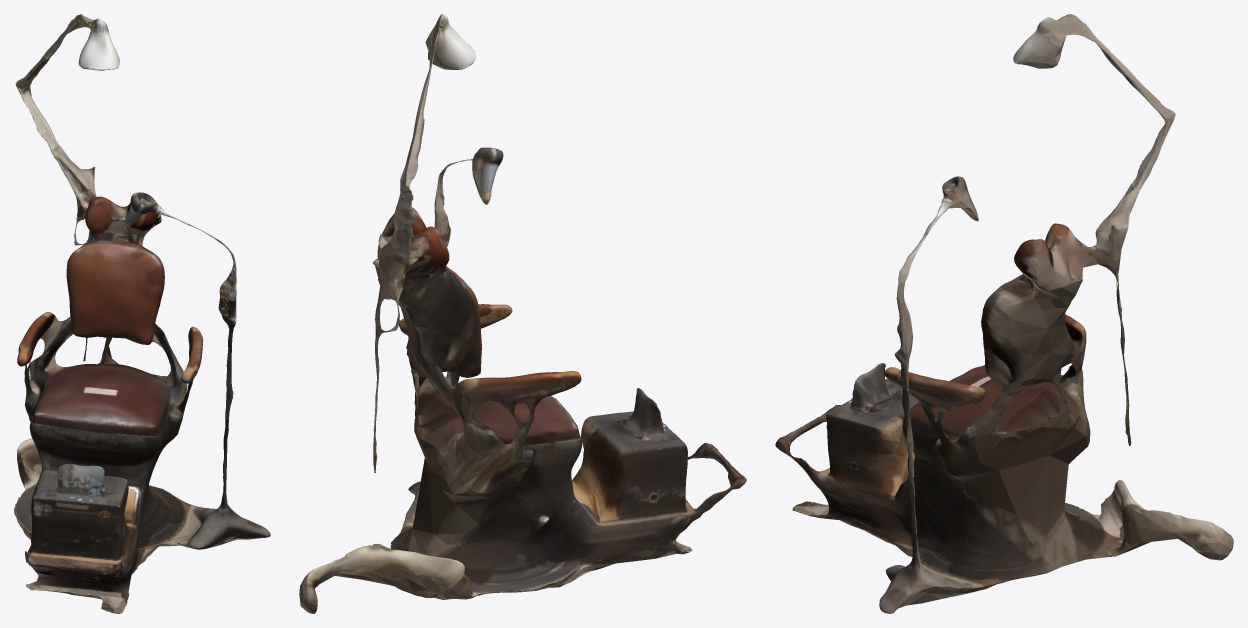
The model's file is karekla2.fbx.
3 renders of one model, left to right at view 1: azimuth 30°, elevation 25°; view 2: azimuth 150°, elevation 25°; view 3: azimuth 270°, elevation 25°, orthographic. The views are drawn at different scales.
Parts seen in each view (by area): view 1: Kar2; view 2: Kar2; view 3: Kar2.
Part boxes in pixels (x1,y1,x2,y2): Kar2: (14, 14, 270, 613); Kar2: (299, 14, 746, 613); Kar2: (775, 14, 1233, 613).
Size of the model in its own units: 66.31 by 118 by 88.64.
